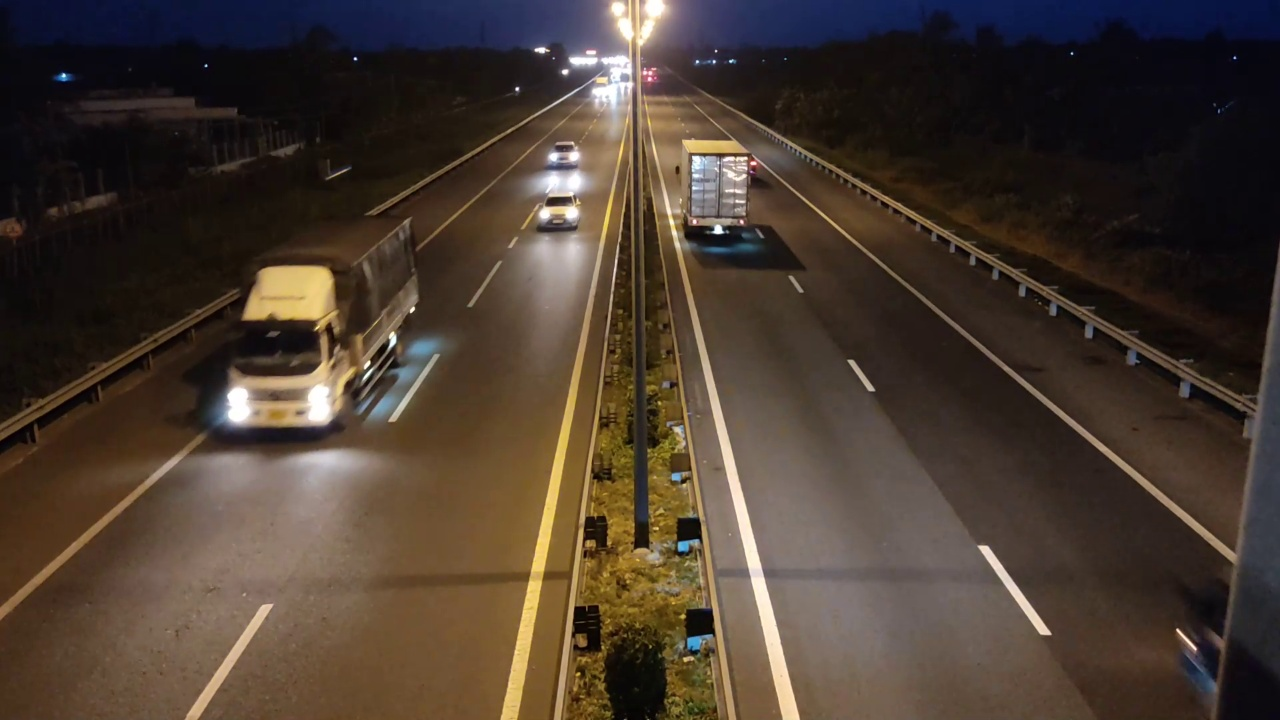car: (536, 191, 582, 232), (545, 141, 581, 171)
truck: (207, 213, 421, 441), (679, 139, 753, 241)
